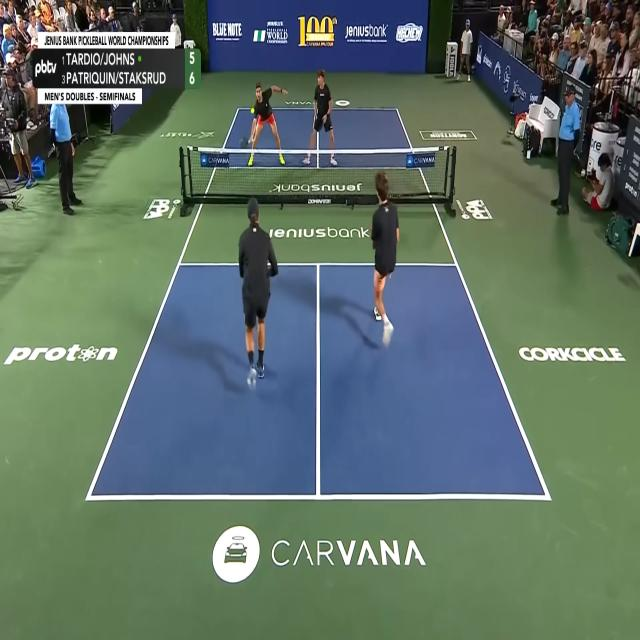ball: (250, 107, 255, 114)
